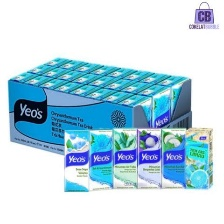carton: (185, 124, 214, 193), (155, 72, 191, 123), (138, 82, 173, 132), (62, 128, 88, 192), (89, 128, 114, 192), (136, 127, 161, 191), (160, 126, 185, 190), (114, 126, 137, 193), (121, 91, 153, 130)
